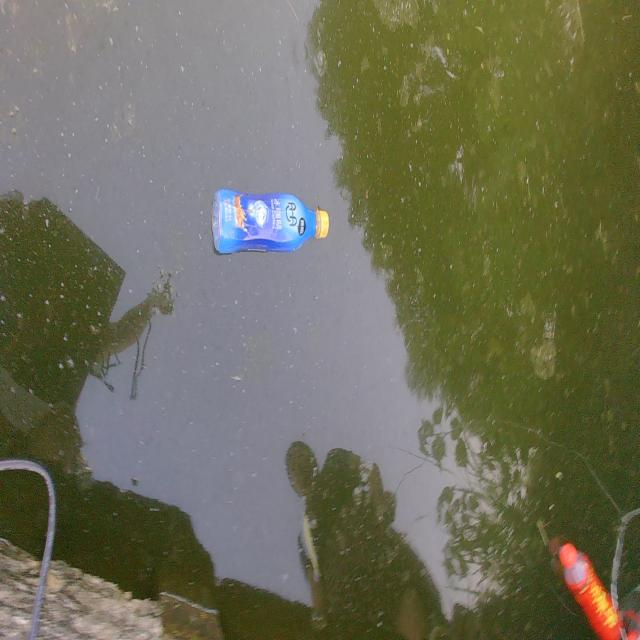Bottle: (209, 183, 330, 259)
